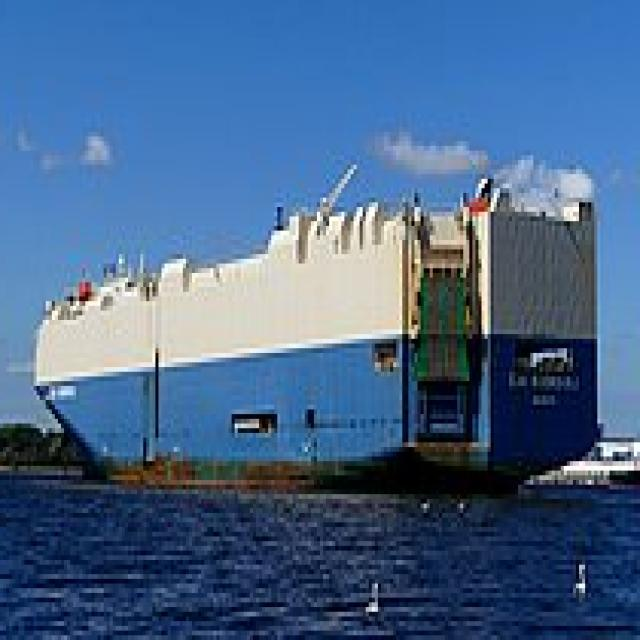Carrier: (36, 160, 604, 489)
